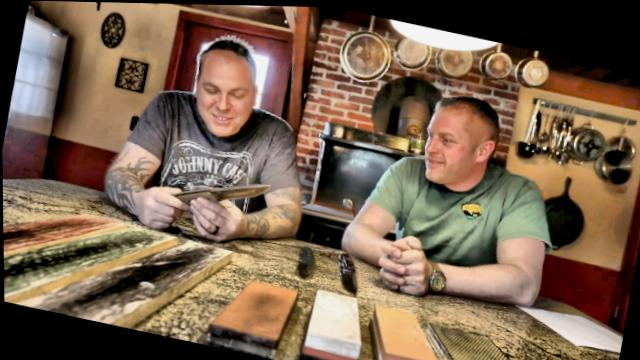knife: (158, 155, 287, 226)
